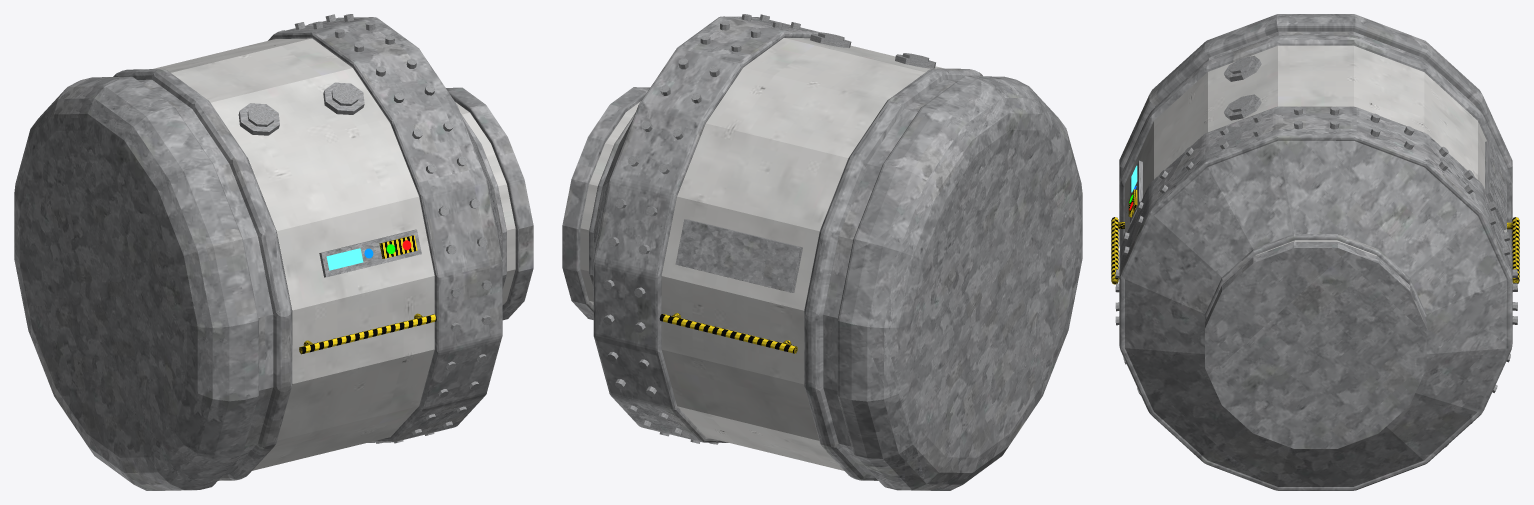
Rendered from Module-1.glb.
3 renders of one model, left to right at view 1: azimuth 30°, elevation 25°; view 2: azimuth 150°, elevation 25°; view 3: azimuth 270°, elevation 25°, orthographic. The views are drawn at different scales.
Visible parts, largest first — view 1: Protection, Hull, Cylinder.006, Cube.001, Bar, Cylinder.005, Cylinder.002; view 2: Protection, Hull, Cube.004, Cylinder.006, Bar.001; view 3: Protection, Hull, Cylinder.006, Cube.004, Bar, Bar.001.
Boxes of the visible parts, <box> form: Protection: <box>14,17,533,490</box>; Hull: <box>153,38,515,470</box>; Cylinder.006: <box>277,14,491,443</box>; Cube.001: <box>319,229,421,277</box>; Bar: <box>299,313,436,354</box>; Cylinder.005: <box>238,103,279,135</box>; Cylinder.002: <box>323,82,364,114</box>; Protection: <box>562,16,1082,490</box>; Hull: <box>580,38,944,470</box>; Cube.004: <box>675,219,802,292</box>; Cylinder.006: <box>603,14,800,444</box>; Bar.001: <box>659,313,797,353</box>; Protection: <box>1119,14,1512,490</box>; Hull: <box>1125,45,1506,255</box>; Cylinder.006: <box>1115,106,1517,447</box>; Cube.004: <box>1485,140,1506,229</box>; Bar: <box>1111,217,1124,284</box>; Bar.001: <box>1507,217,1519,283</box>.
Size of the model in its own units: 11.99 by 12.17 by 12.2.
Materials: 8 (4 with a texture image).
